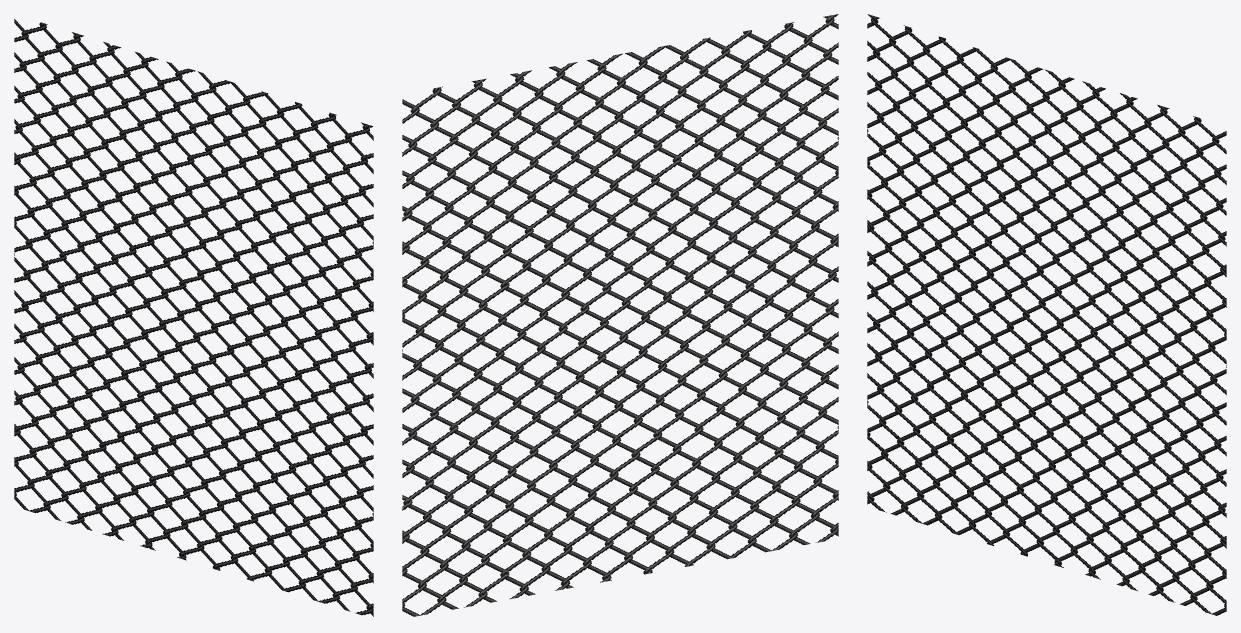
File: chain_link_fence.glb
3 renders of one model, left to right at view 1: azimuth 90°, elevation 25°; view 2: azimuth 150°, elevation 25°; view 3: azimuth 270°, elevation 25°, orthographic. The views are drawn at different scales.
Parts seen in each view (by area): view 1: Object; view 2: Object; view 3: Object.
Part boxes in pixels (box(x1,y1,x2,y2)): Object: box(14, 19, 373, 616); Object: box(402, 14, 838, 616); Object: box(867, 14, 1226, 615).
Bounding box in the file's own units: 1.66 × 3.4 × 2.24.
Materials: 1 (1 with a texture image).
